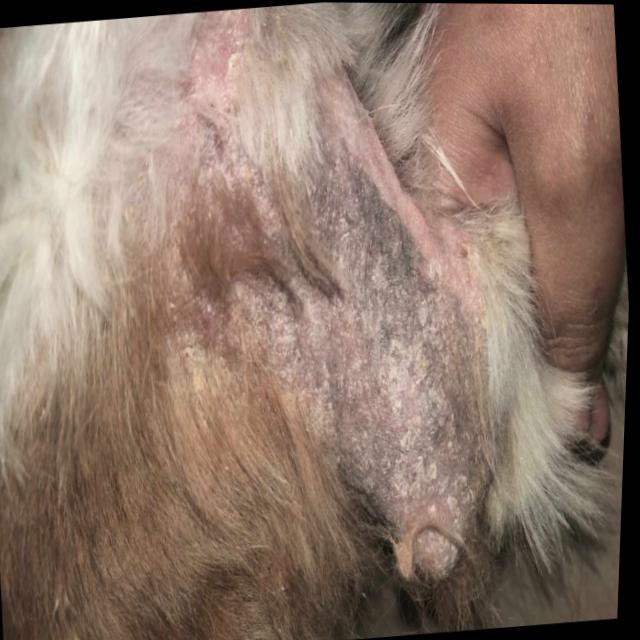demodicosis: (159, 37, 493, 578)
